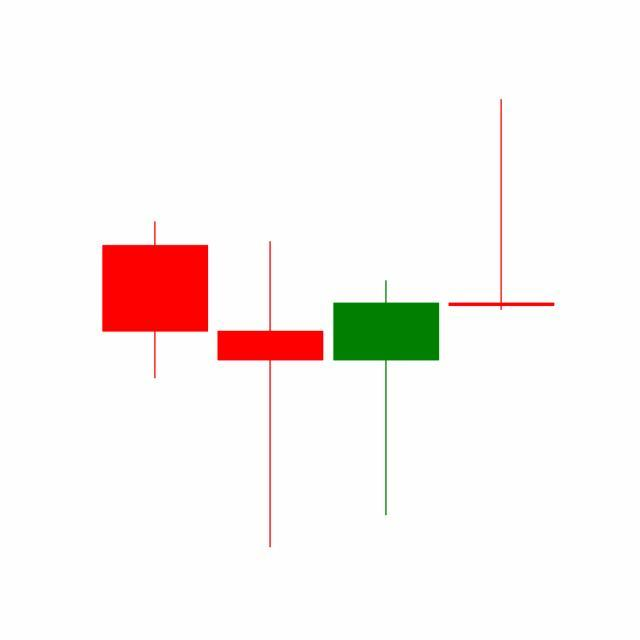Dragonfly Doji: (329, 278, 445, 519)
